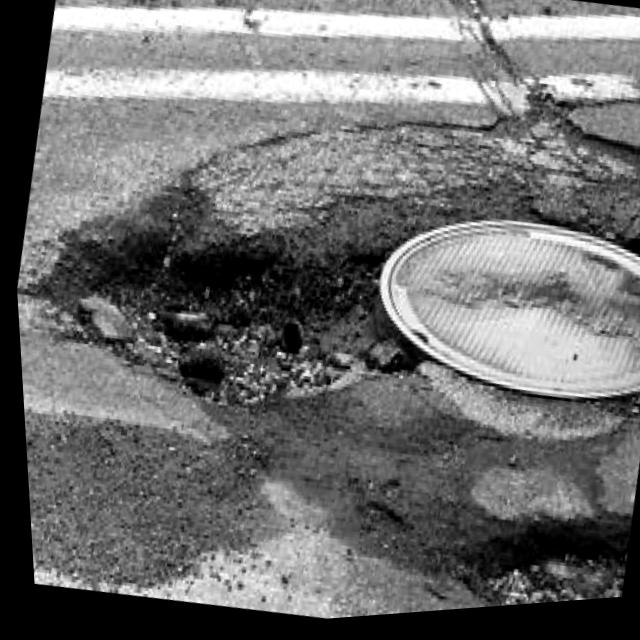pathole: (13, 27, 640, 623)
